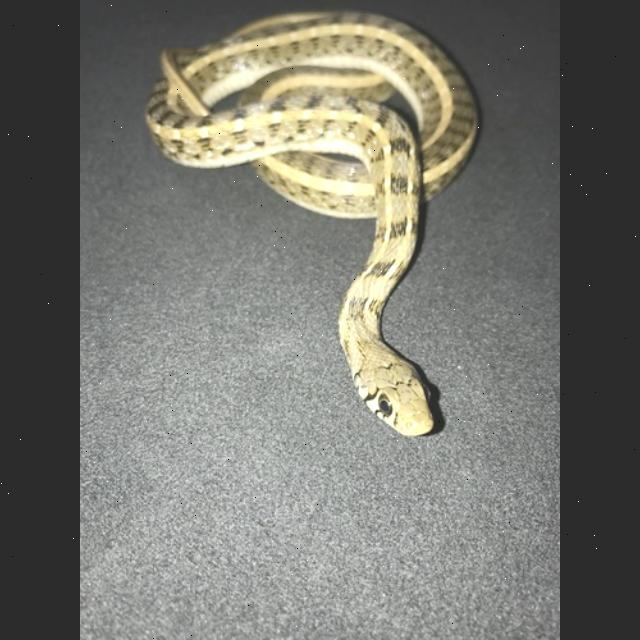snake: (136, 2, 490, 452)
